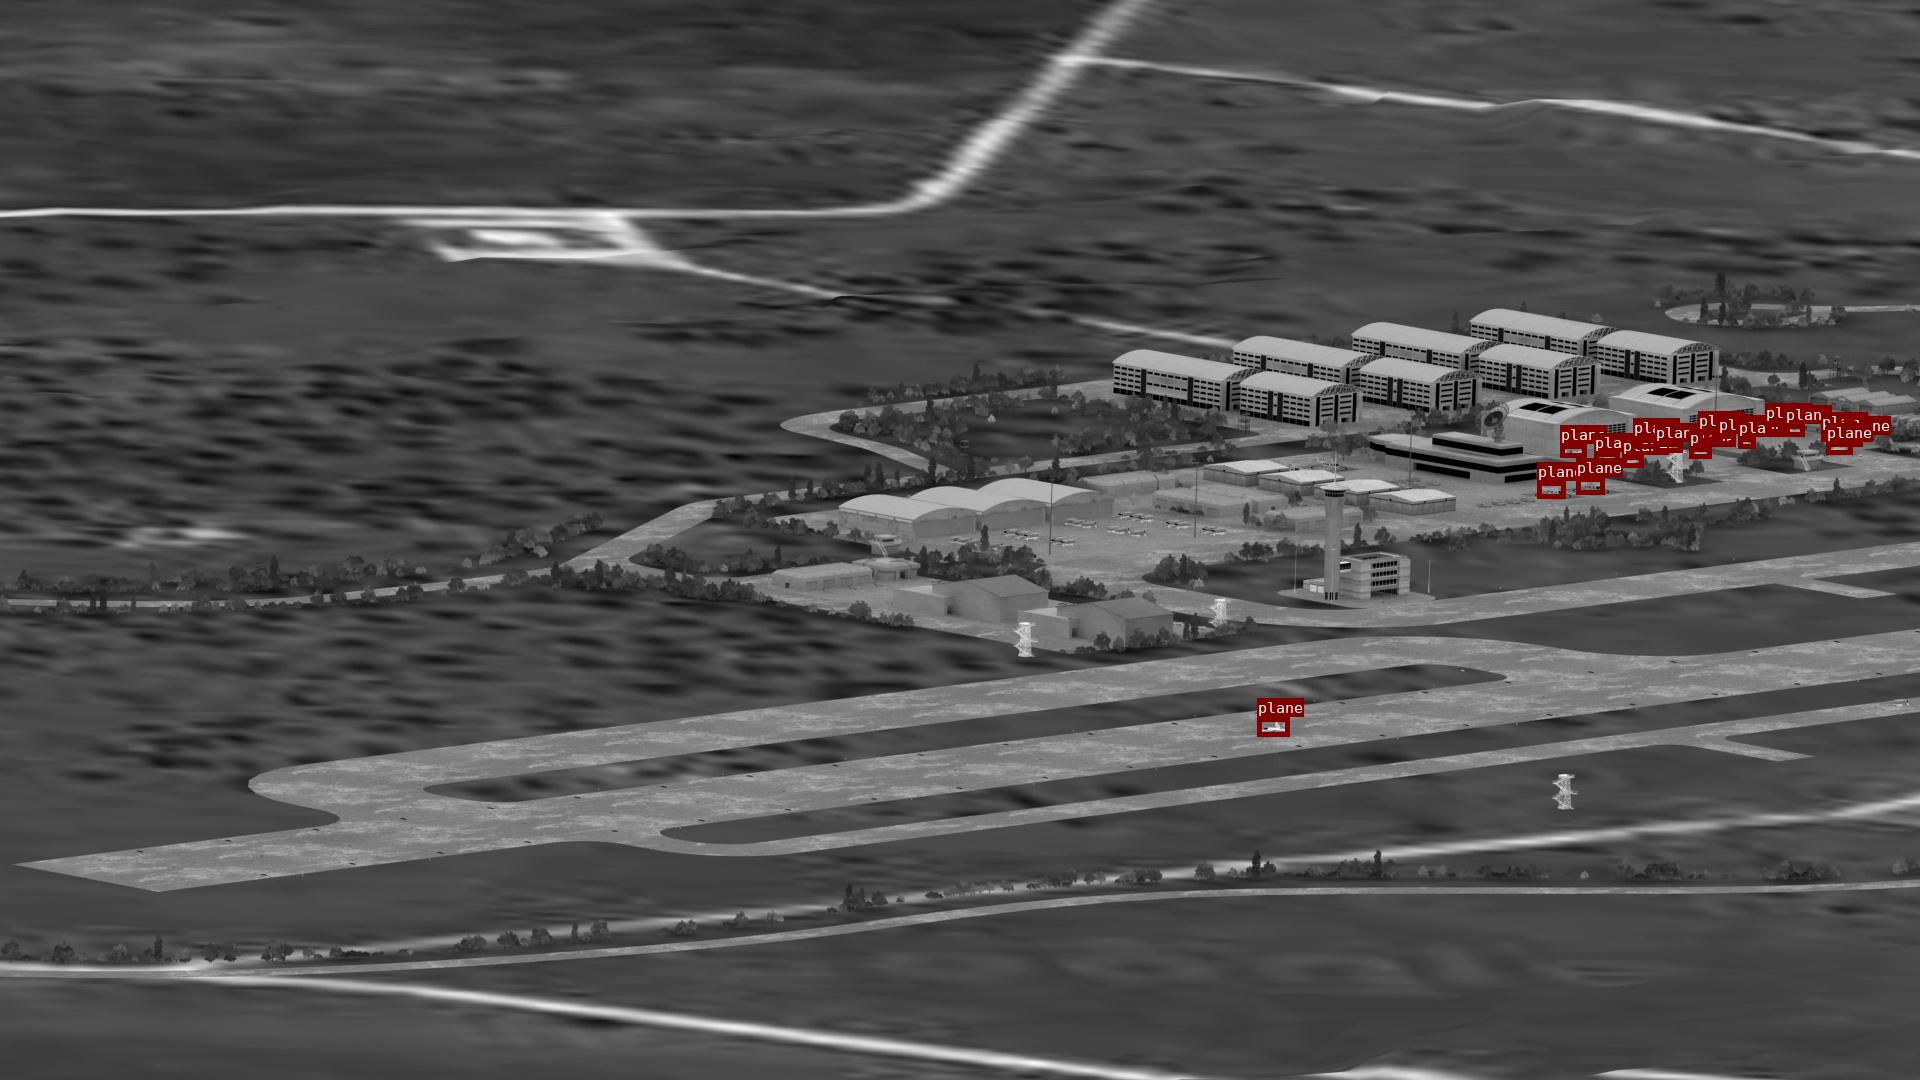plane: (1257, 717, 1288, 736), (1538, 481, 1565, 498), (1576, 477, 1604, 495), (1560, 444, 1586, 458), (1633, 436, 1658, 448), (1826, 442, 1851, 454), (1655, 442, 1683, 452), (1594, 452, 1619, 463), (1622, 455, 1643, 467), (1689, 447, 1712, 458), (1764, 422, 1785, 433), (1785, 425, 1804, 436), (1698, 430, 1716, 442), (1738, 436, 1755, 448), (1844, 435, 1862, 446), (1718, 434, 1735, 444), (1821, 431, 1838, 440)
